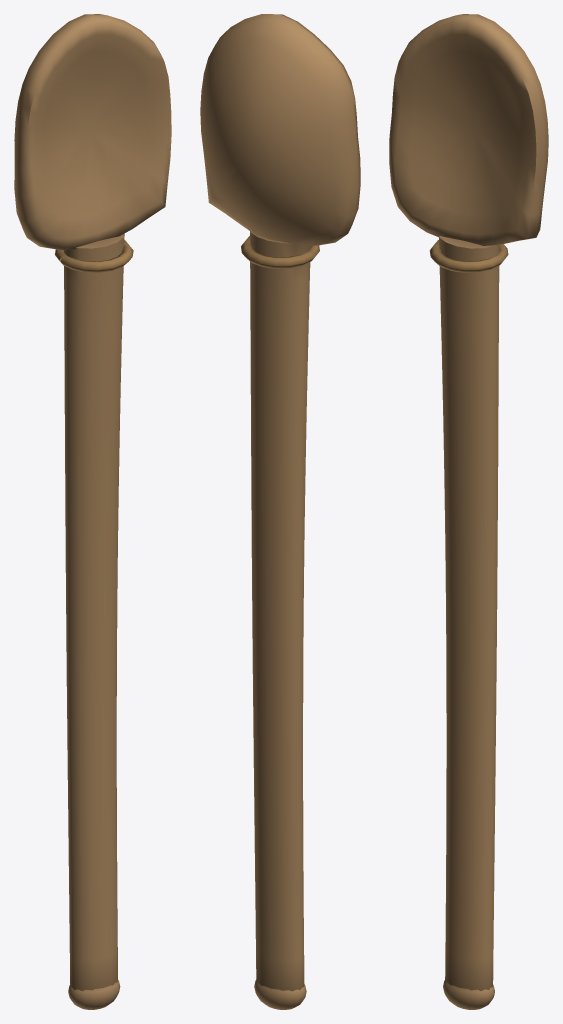
File: cook_spoon.glb
3 views of the same model, side by side, from view 1: azimuth 30°, elevation 25°; view 2: azimuth 150°, elevation 25°; view 3: azimuth 330°, elevation 25° (orthographic).
Parts seen in each view (by area): view 1: cook_spoon; view 2: cook_spoon; view 3: cook_spoon.
Boxes of the visible parts, x1,y1,x2,y2 form: cook_spoon: (14, 14, 171, 1009); cook_spoon: (200, 14, 360, 1009); cook_spoon: (389, 14, 548, 1009).
Bounding box in the file's own units: 0.1009 × 0.632 × 0.0609.
